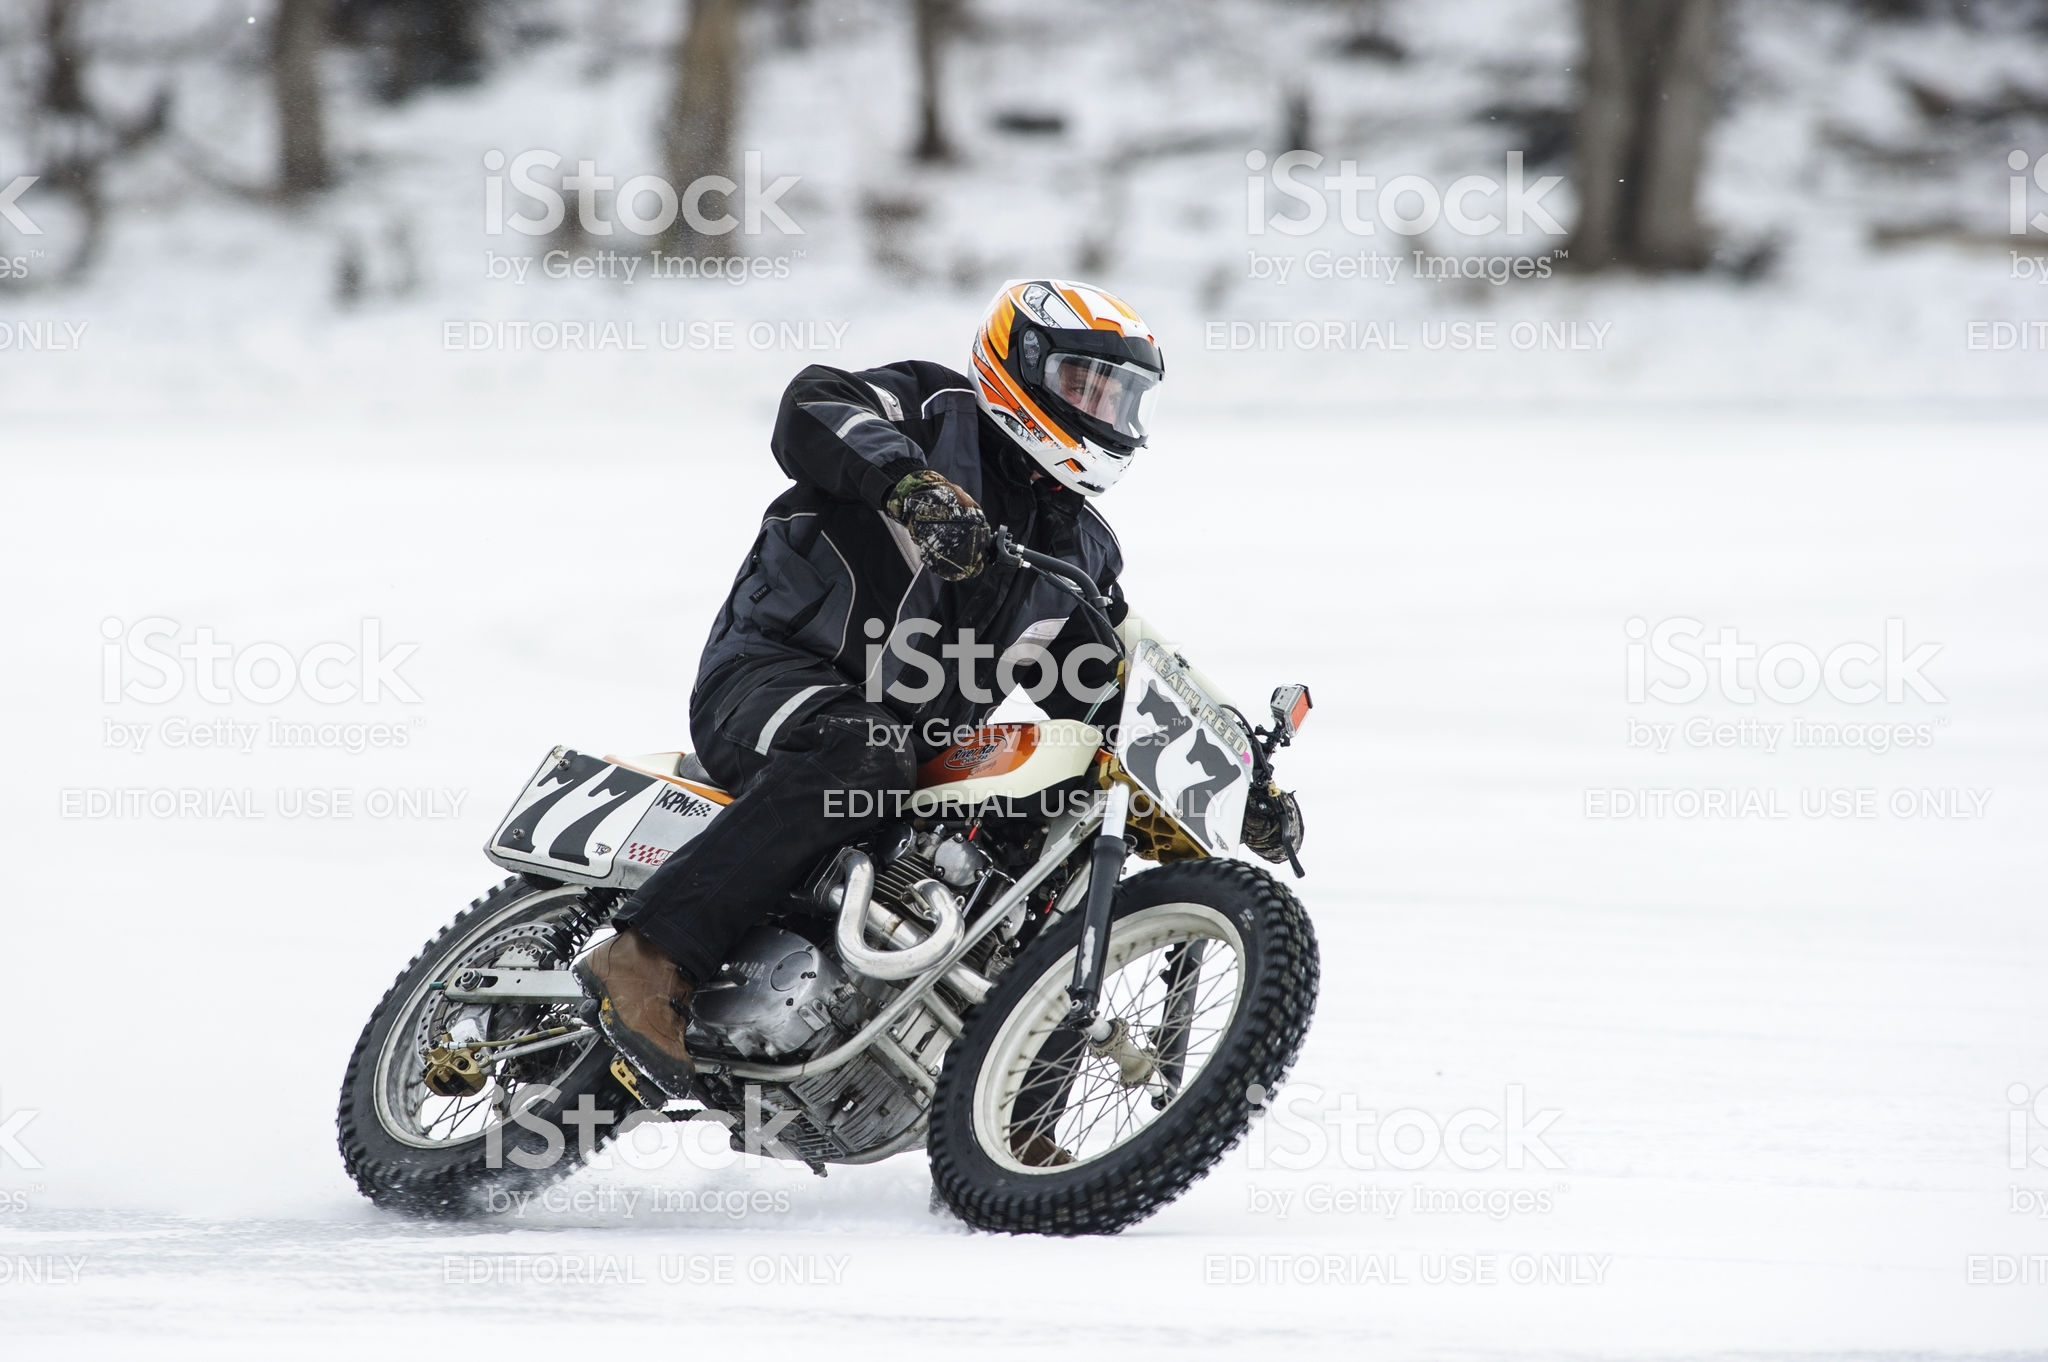helmet: (972, 263, 1162, 489)
